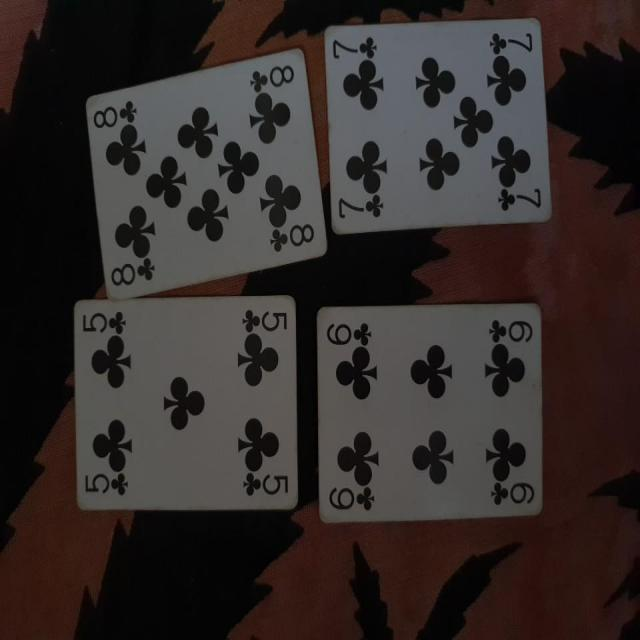5 Trefoils: (73, 292, 300, 513)
6 Trefoils: (316, 298, 545, 524)
7 Trefoils: (323, 17, 554, 236)
8 Trefoils: (83, 48, 330, 300)
